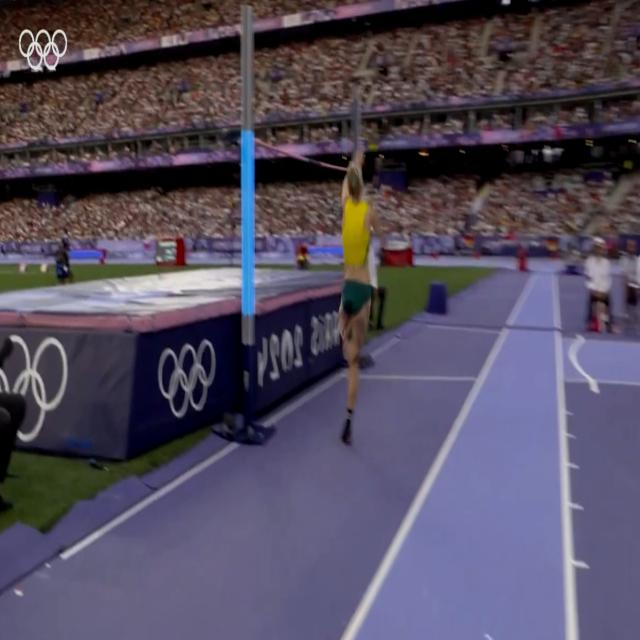jump: (334, 140, 390, 448)
